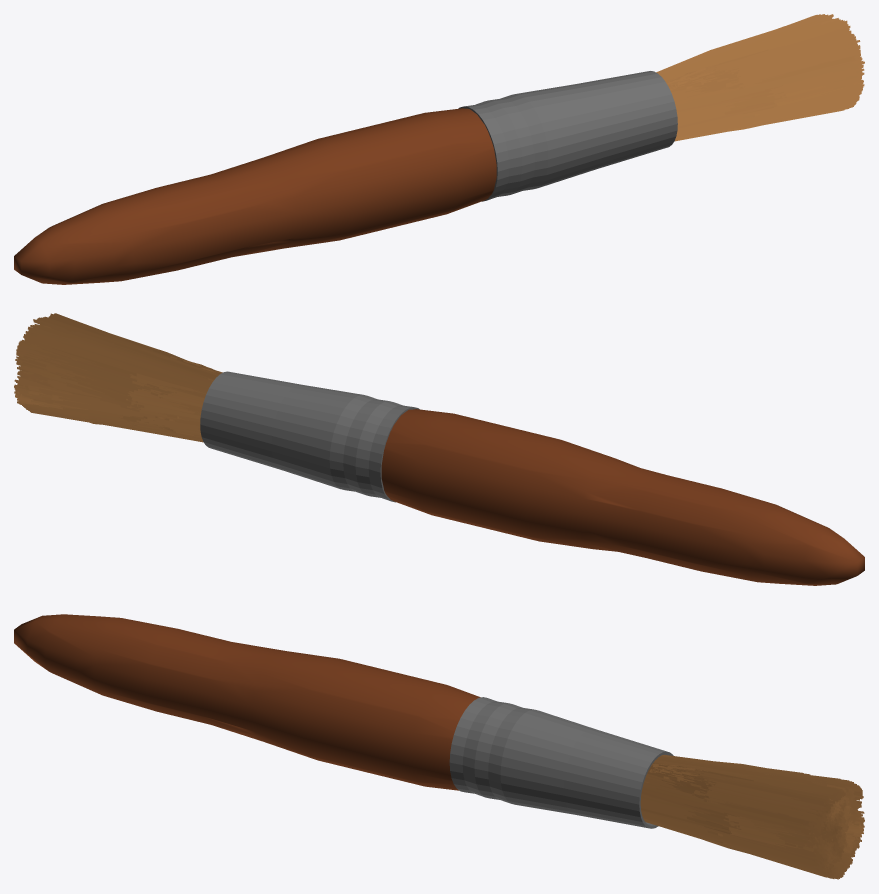
Rendered from Brush.fbx.
3 views of the same model, one above another, from view 1: azimuth 30°, elevation 25°; view 2: azimuth 150°, elevation 25°; view 3: azimuth 330°, elevation 25° (orthographic).
Parts seen in each view (by area): view 1: Mball.002, Mesh; view 2: Mball.002, Mesh; view 3: Mball.002, Mesh.
Part boxes in pixels (x1=…): Mball.002: x1=14, y1=71, x2=677, y2=284; Mesh: x1=656, y1=14, x2=864, y2=141; Mball.002: x1=200, y1=371, x2=864, y2=585; Mesh: x1=14, y1=313, x2=222, y2=442; Mball.002: x1=14, y1=614, x2=673, y2=828; Mesh: x1=640, y1=754, x2=864, y2=879.
Size of the model in its own units: 1630 by 176 by 176.
